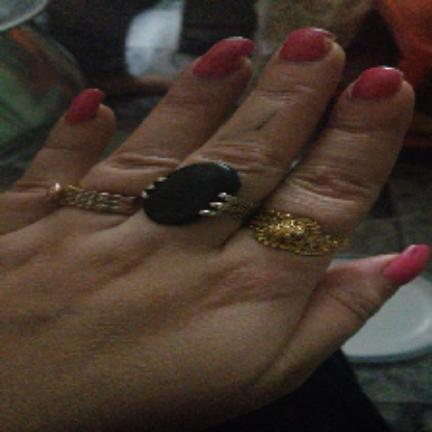Nail: (192, 37, 254, 77), (383, 245, 430, 285), (279, 28, 333, 62), (352, 67, 402, 99), (67, 89, 105, 123)
